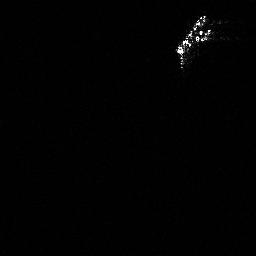ship: (171, 11, 214, 69)
